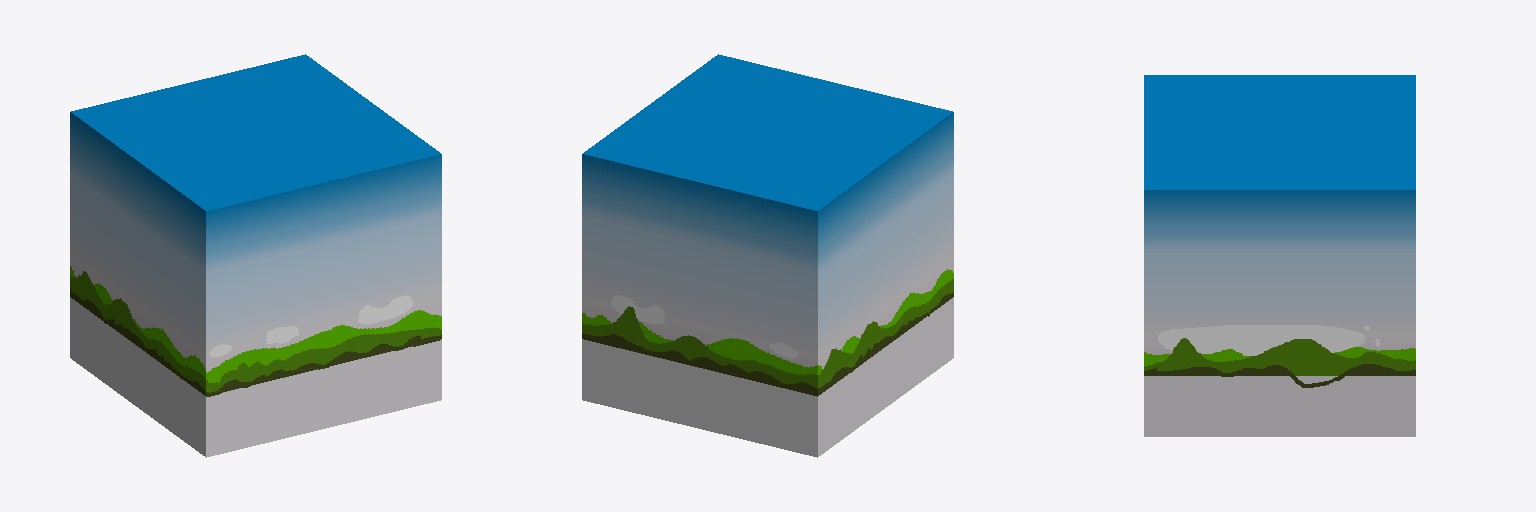
The picture shows the model from 3 angles: view 1: azimuth 30°, elevation 25°; view 2: azimuth 150°, elevation 25°; view 3: azimuth 270°, elevation 25°; orthographic projection.
Visible parts, largest first — view 1: object 1; view 2: object 1; view 3: object 1.
Boxes of the visible parts, box(x1,y1,x2,y2) form: object 1: box(70, 54, 441, 457); object 1: box(582, 54, 953, 457); object 1: box(1144, 75, 1415, 436).
Bounding box in the file's own units: 25 × 25 × 25.
Materials: 1 (1 with a texture image).